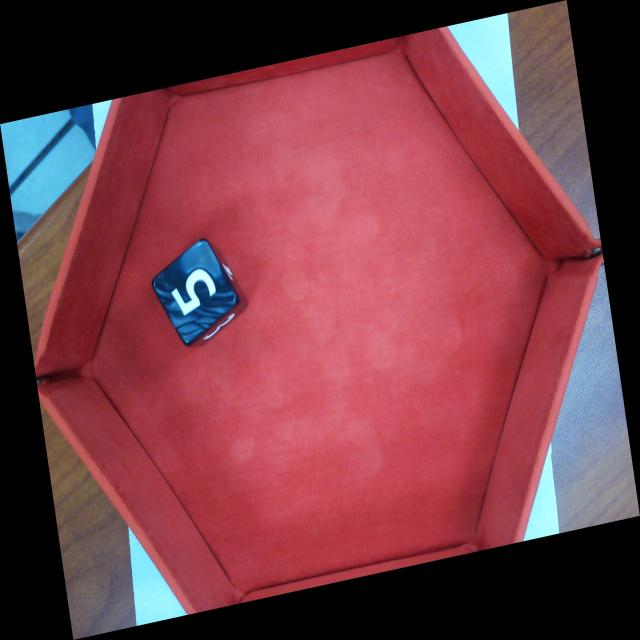dice: (155, 240, 238, 342)
